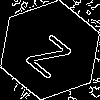Z: (25, 25, 80, 80)
